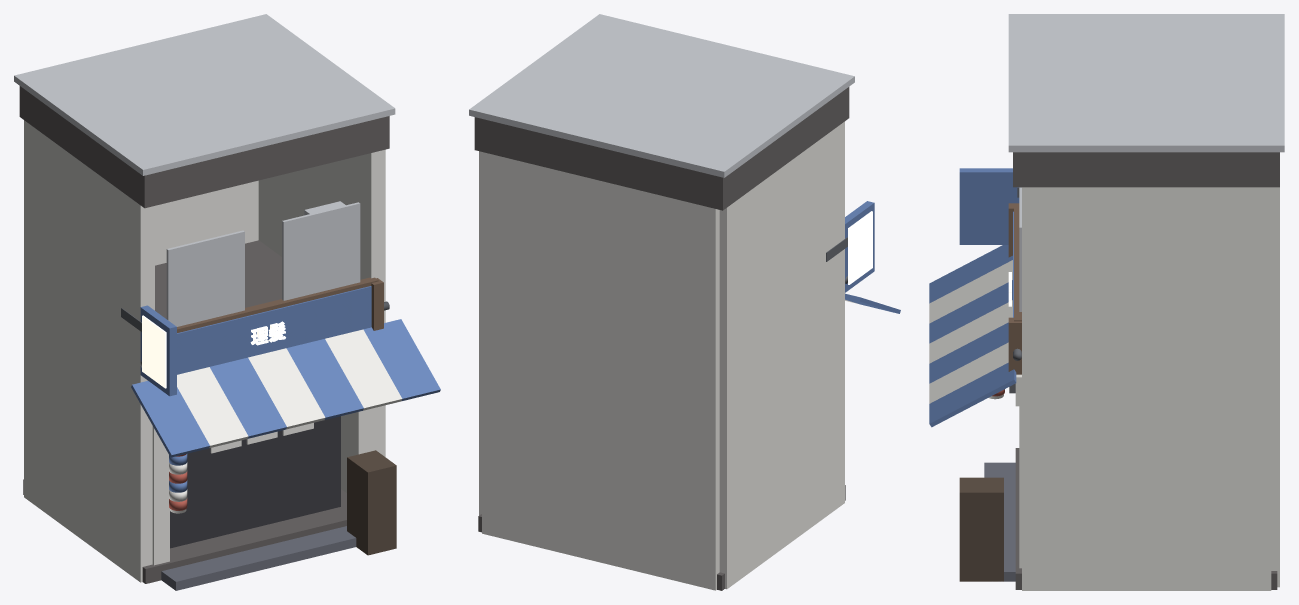
File: prop_shop_tokoya.glb
3 views of the same model, side by side, from view 1: azimuth 30°, elevation 25°; view 2: azimuth 150°, elevation 25°; view 3: azimuth 270°, elevation 25° (orthographic). The views are drawn at different scales.
Parts seen in each view (by area): view 1: shop_tokoya; view 2: shop_tokoya; view 3: shop_tokoya.
Boxes of the visible parts, x1,y1,x2,y2 form: shop_tokoya: [14, 14, 440, 590]; shop_tokoya: [469, 14, 900, 590]; shop_tokoya: [929, 14, 1284, 590].
Bounding box in the file's own units: 3.73 × 5.54 × 3.99.
